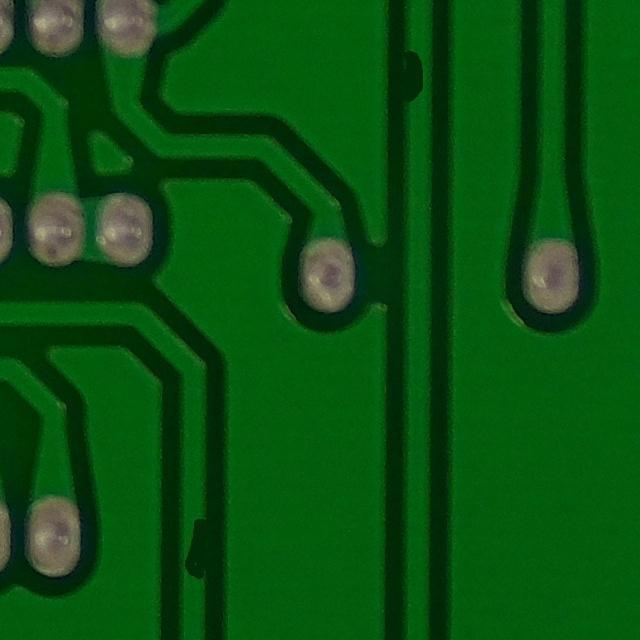mouse_bite: (168, 492, 222, 601), (386, 34, 434, 125)
